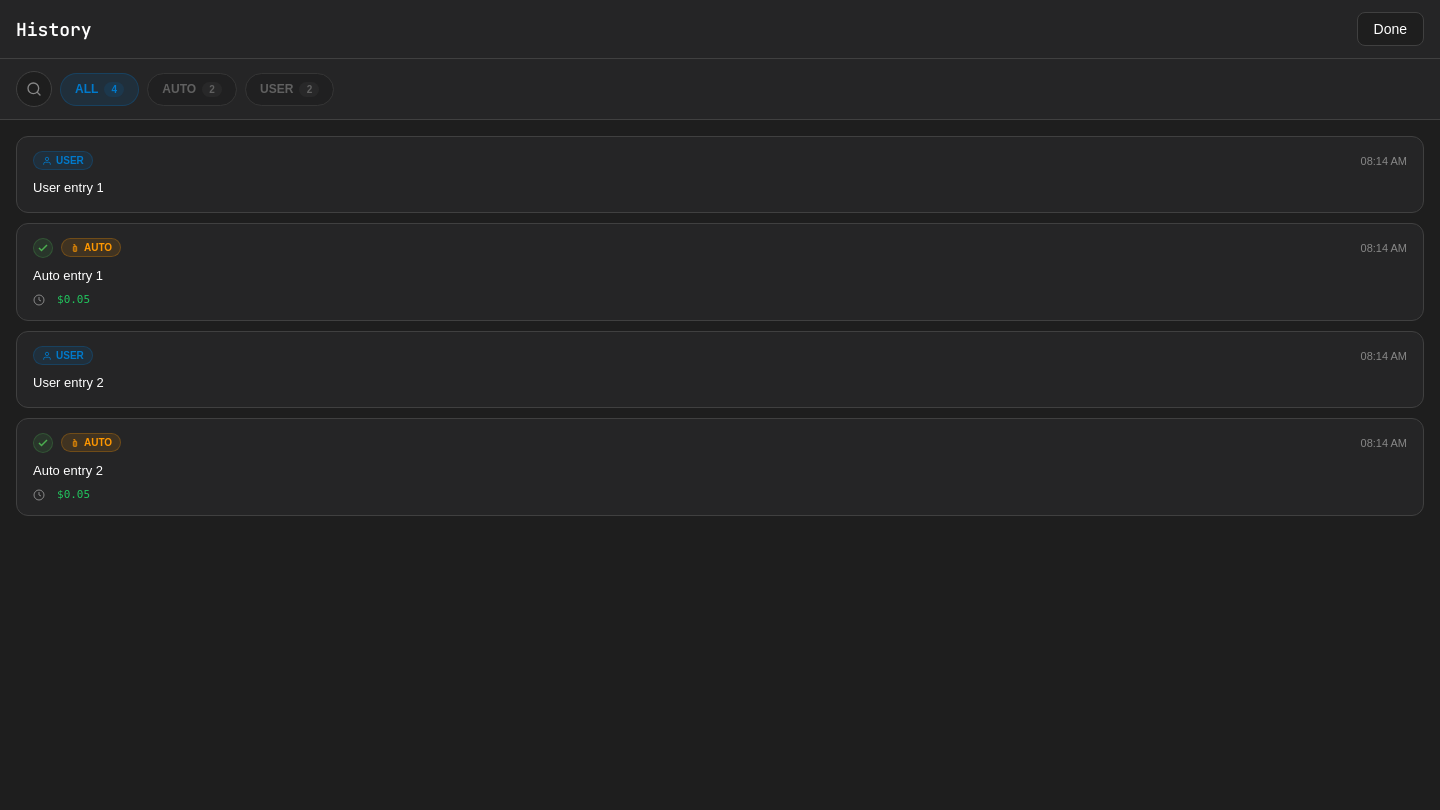
MobileHistoryPanel › Filter functionality › filters to AUTO entries only
Click the button "AUTO 2".
click(192, 89)  # box [147, 72, 237, 106]
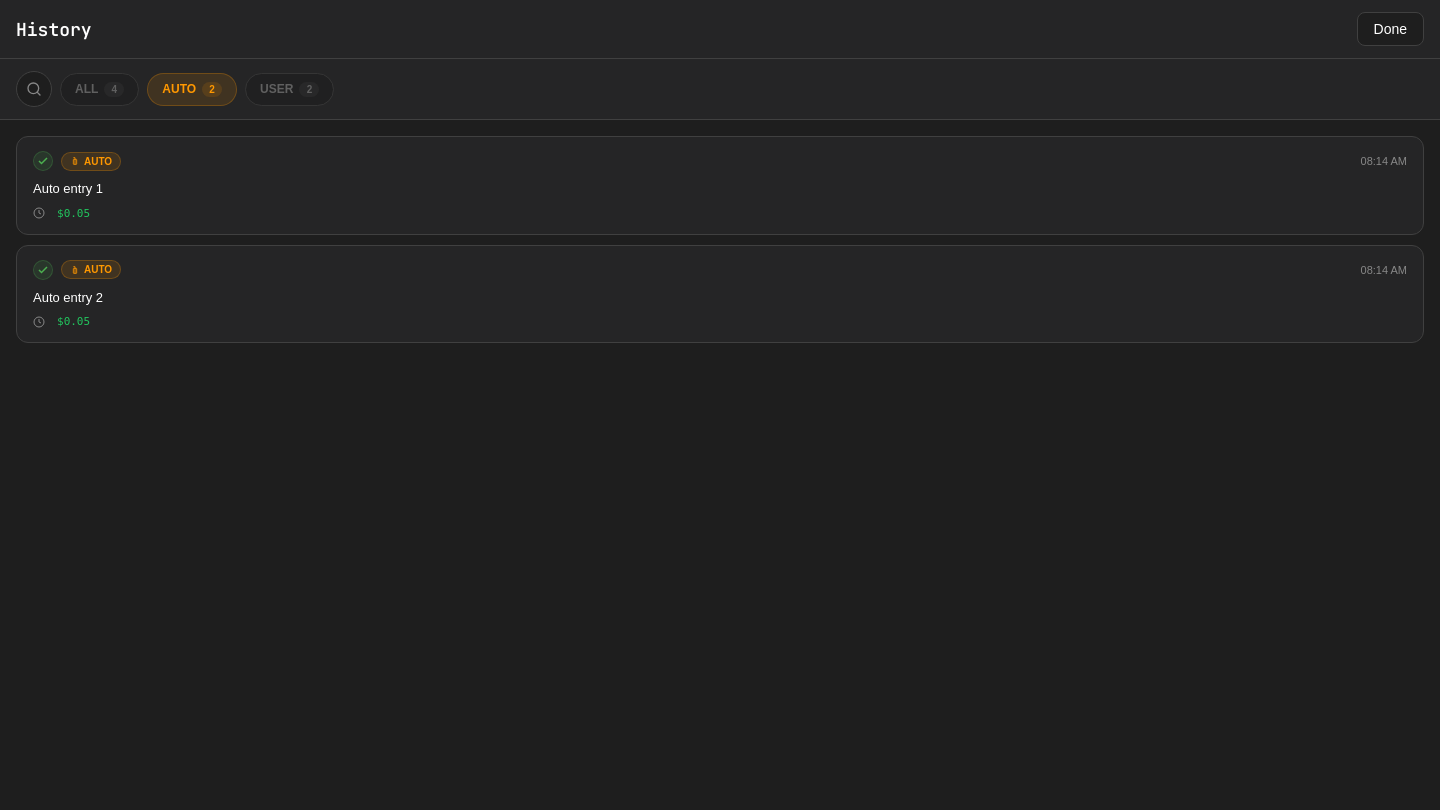
Check: the text "Auto entry 1" is shown, box [33, 179, 103, 198]
Check: the button "User entry 1" is gone
Check: the button "User entry 2" is gone
